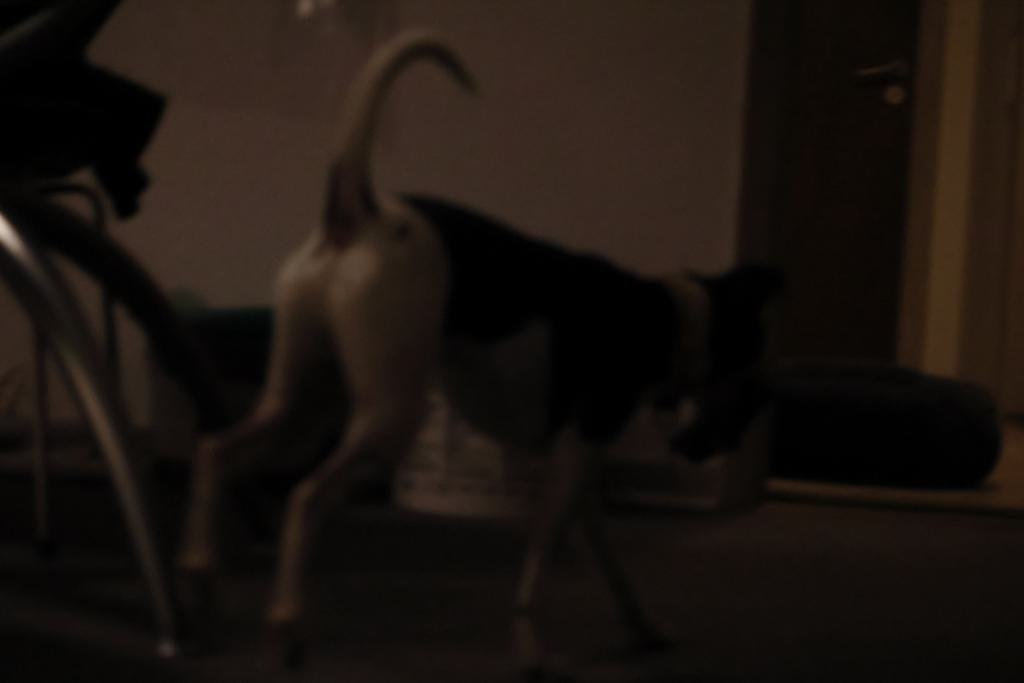Dog: (159, 26, 829, 683)
